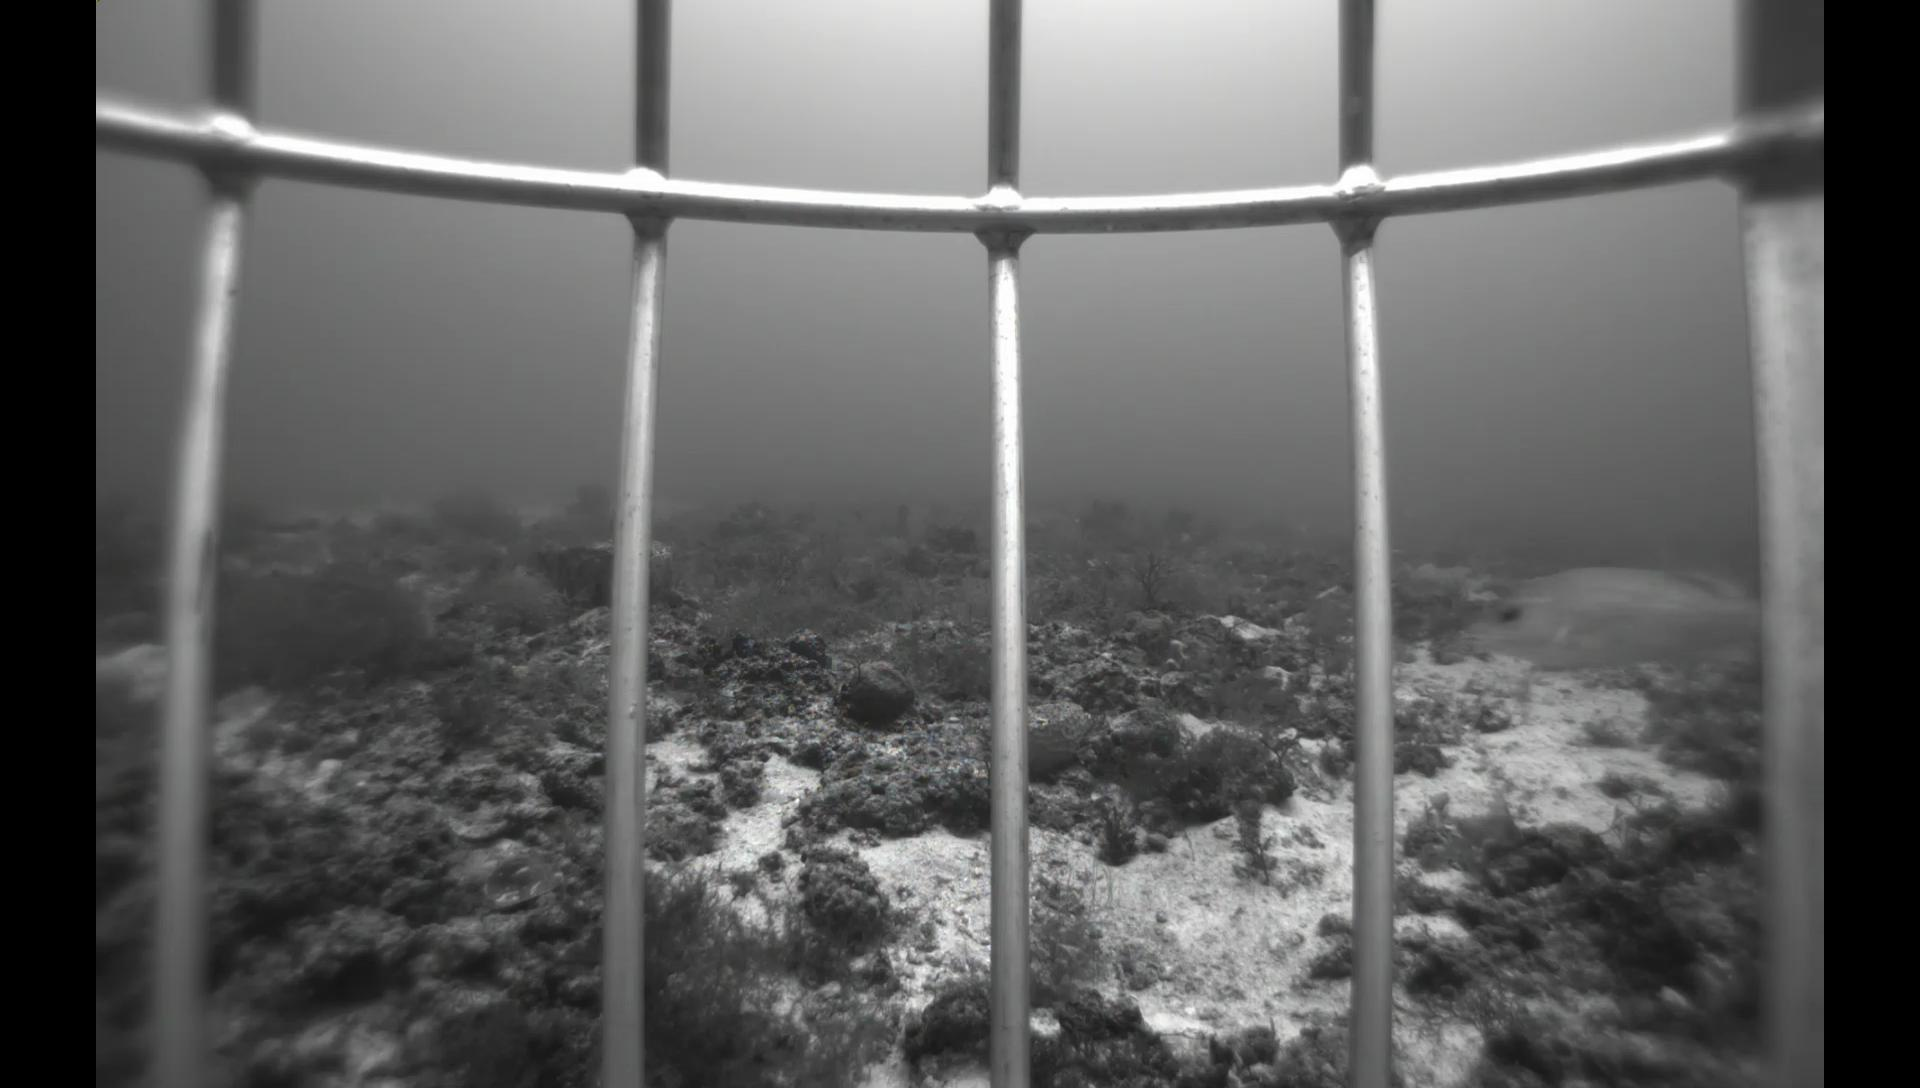LUTJANUSGRISEUS-170151109: (1456, 554, 1766, 682)
MYCTEROPERCAPHENAX-170022105: (890, 499, 927, 543)
